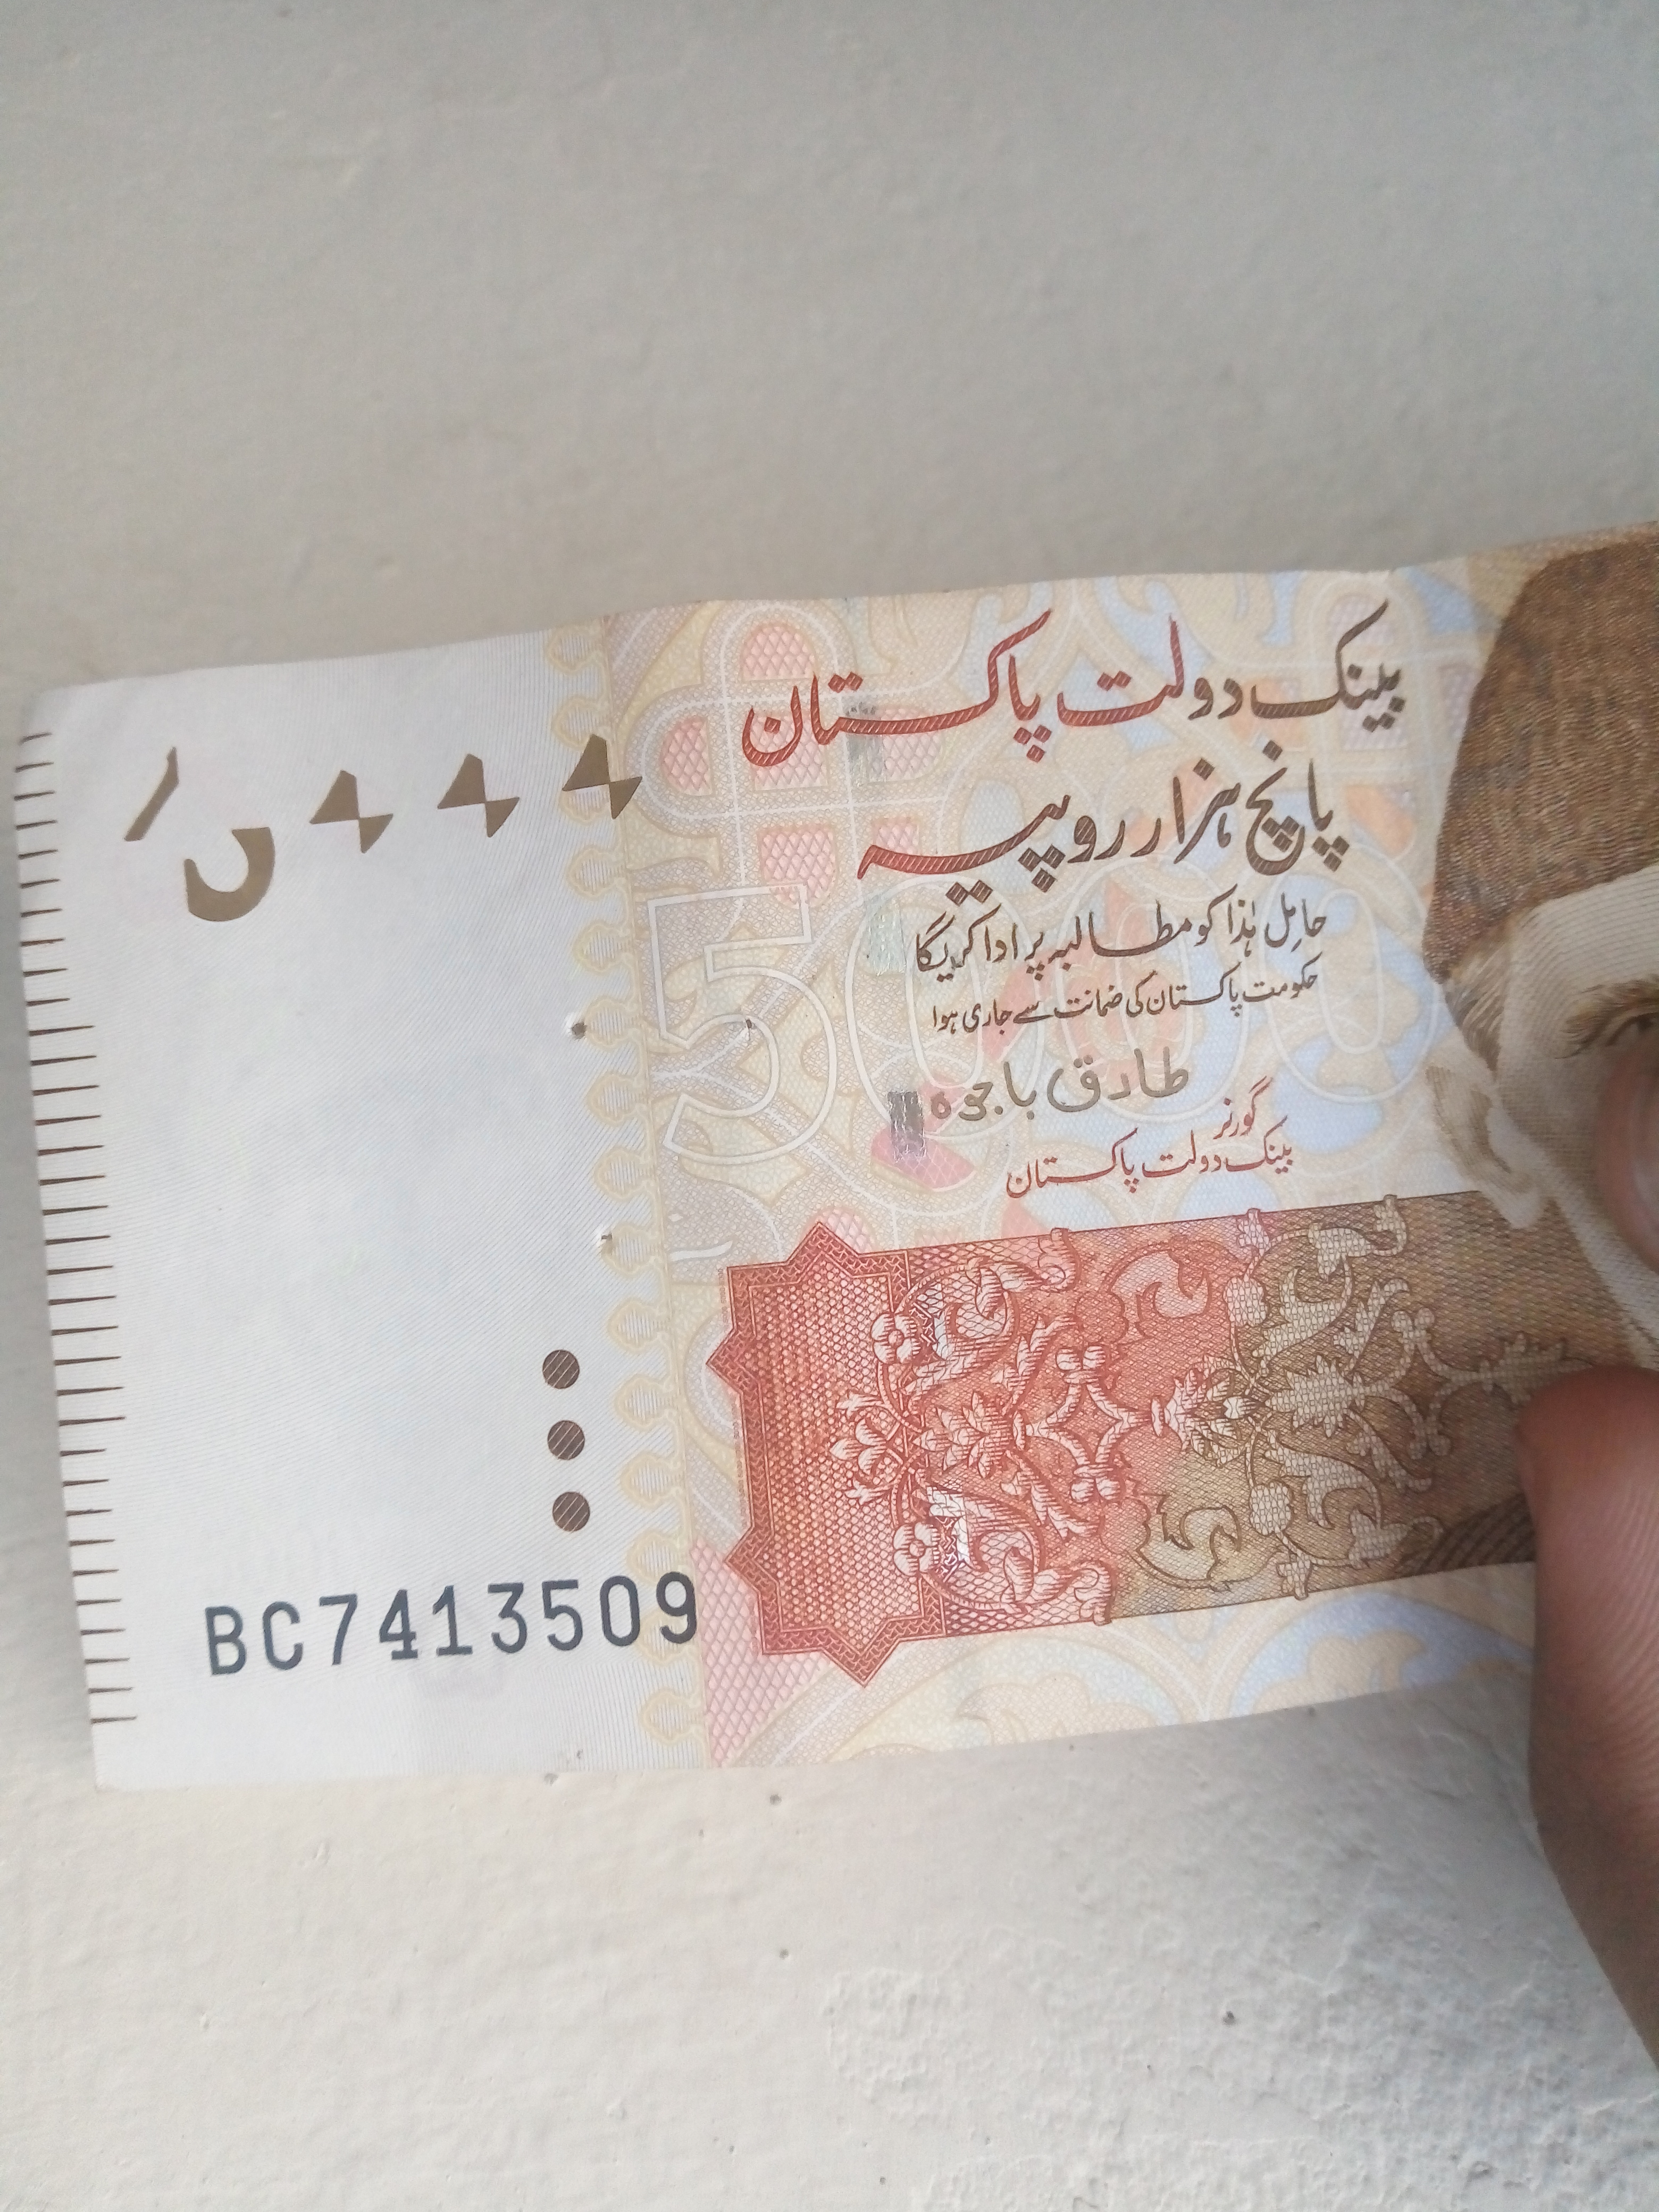5000 rupee: (10, 611, 1659, 1792), (458, 1219, 680, 1571)
